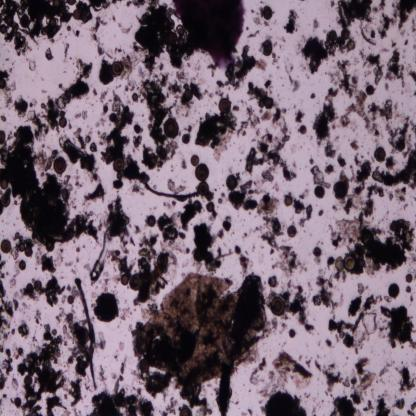Background material: (132, 266, 268, 389), (0, 126, 99, 244), (10, 324, 68, 416), (326, 217, 416, 268), (132, 2, 187, 71), (324, 293, 384, 351), (46, 59, 93, 128), (256, 220, 307, 276), (341, 92, 394, 139), (245, 132, 296, 180), (142, 71, 176, 140), (334, 162, 378, 215), (371, 146, 416, 196), (195, 110, 238, 162), (99, 92, 132, 157), (34, 1, 90, 38), (59, 135, 99, 183), (0, 0, 33, 58), (379, 303, 416, 353), (218, 46, 258, 90), (272, 349, 312, 392), (89, 390, 156, 415), (104, 196, 136, 248), (283, 285, 315, 336), (344, 356, 378, 404), (190, 225, 224, 271), (243, 106, 289, 134), (158, 215, 190, 255), (0, 255, 13, 351), (260, 390, 308, 415), (312, 357, 344, 394), (142, 140, 180, 171), (301, 34, 330, 74), (330, 59, 360, 97), (312, 104, 339, 144), (312, 272, 338, 313), (386, 117, 416, 152), (339, 0, 376, 28), (34, 275, 67, 306), (357, 49, 384, 86), (230, 178, 259, 212), (86, 240, 108, 284), (93, 294, 121, 324), (135, 233, 160, 266), (284, 193, 314, 220), (125, 155, 151, 185), (386, 49, 406, 87), (180, 198, 203, 231), (215, 374, 233, 414), (176, 71, 191, 118), (327, 32, 357, 55), (258, 193, 282, 221), (34, 248, 57, 275), (312, 163, 335, 190), (246, 355, 266, 386), (91, 14, 106, 55), (282, 62, 301, 94), (108, 249, 132, 274), (28, 110, 48, 139), (248, 82, 268, 110), (66, 376, 84, 407), (331, 396, 358, 416), (394, 1, 416, 25), (398, 365, 416, 394), (378, 14, 395, 44), (125, 78, 142, 106), (10, 230, 26, 259), (387, 184, 406, 208), (114, 356, 126, 392), (235, 247, 250, 275), (84, 182, 104, 203), (100, 58, 114, 86), (285, 8, 300, 33), (260, 37, 275, 61), (295, 110, 308, 137), (56, 307, 75, 325), (160, 396, 178, 415), (131, 122, 143, 150), (13, 93, 27, 117), (167, 177, 186, 193), (190, 82, 206, 101), (376, 396, 391, 416), (324, 87, 340, 105), (112, 16, 130, 32), (20, 284, 36, 302), (4, 350, 14, 378), (89, 0, 113, 11), (0, 64, 16, 80), (346, 136, 361, 153), (326, 140, 338, 160), (96, 331, 108, 351), (408, 69, 416, 98), (58, 251, 72, 267), (12, 292, 22, 314), (5, 86, 16, 106), (206, 87, 224, 99), (126, 57, 136, 78), (311, 245, 322, 264), (60, 42, 72, 59), (236, 121, 247, 139), (113, 174, 125, 190), (263, 77, 273, 95), (17, 323, 29, 338), (126, 0, 148, 8), (0, 368, 7, 392), (267, 275, 279, 289), (44, 46, 55, 61), (108, 46, 124, 56), (362, 400, 375, 412), (272, 52, 281, 69), (223, 215, 232, 232), (407, 400, 416, 416), (405, 285, 412, 304), (206, 63, 217, 75), (207, 212, 218, 224), (11, 378, 20, 392), (179, 154, 187, 169), (239, 408, 254, 416), (310, 19, 320, 31), (338, 153, 346, 168), (317, 207, 327, 218), (116, 338, 125, 350), (396, 397, 404, 410), (253, 16, 263, 26), (257, 60, 266, 71), (231, 102, 240, 113), (30, 97, 38, 109), (352, 156, 360, 168), (206, 191, 216, 200), (28, 60, 36, 71), (19, 260, 27, 271), (288, 328, 296, 339), (248, 32, 260, 39), (89, 142, 97, 152), (241, 232, 249, 240), (402, 38, 410, 46), (10, 279, 16, 289), (309, 92, 316, 100), (74, 29, 82, 36), (328, 0, 334, 9), (0, 209, 6, 218), (280, 34, 286, 42), (76, 245, 82, 253), (217, 197, 223, 205), (250, 6, 256, 14), (309, 156, 314, 165), (14, 200, 20, 207), (0, 115, 7, 121), (42, 88, 48, 94), (263, 22, 270, 27), (411, 25, 416, 32), (221, 192, 226, 197), (398, 30, 402, 36), (246, 27, 249, 31)
Cellulose filter fibre: (74, 278, 99, 392)
Cotton: (145, 183, 198, 202)
Diatom: (163, 118, 178, 139), (271, 297, 285, 316), (128, 274, 143, 291), (333, 181, 347, 199), (195, 163, 209, 181), (332, 256, 345, 274), (54, 156, 67, 174), (344, 256, 357, 274), (387, 282, 400, 299), (156, 253, 169, 269), (138, 359, 151, 374), (219, 97, 230, 114), (198, 182, 210, 197), (374, 147, 386, 162), (227, 174, 238, 190), (111, 62, 123, 76), (0, 240, 12, 254), (262, 5, 272, 21), (0, 193, 11, 207), (113, 160, 125, 172), (314, 186, 326, 198), (20, 14, 30, 28), (287, 224, 297, 238), (179, 406, 193, 416), (146, 214, 156, 228), (190, 154, 200, 167), (58, 117, 68, 130), (340, 27, 350, 40), (366, 83, 375, 96), (265, 96, 274, 109), (24, 246, 34, 257), (23, 375, 33, 386), (206, 202, 216, 213), (121, 273, 129, 286), (184, 90, 193, 101), (14, 396, 22, 408), (0, 23, 8, 35), (0, 130, 6, 144), (0, 78, 7, 90), (182, 134, 190, 144), (67, 296, 74, 306), (73, 10, 80, 19), (406, 274, 413, 282), (65, 25, 72, 32), (40, 102, 46, 108)
Pen: (173, 0, 246, 65)
